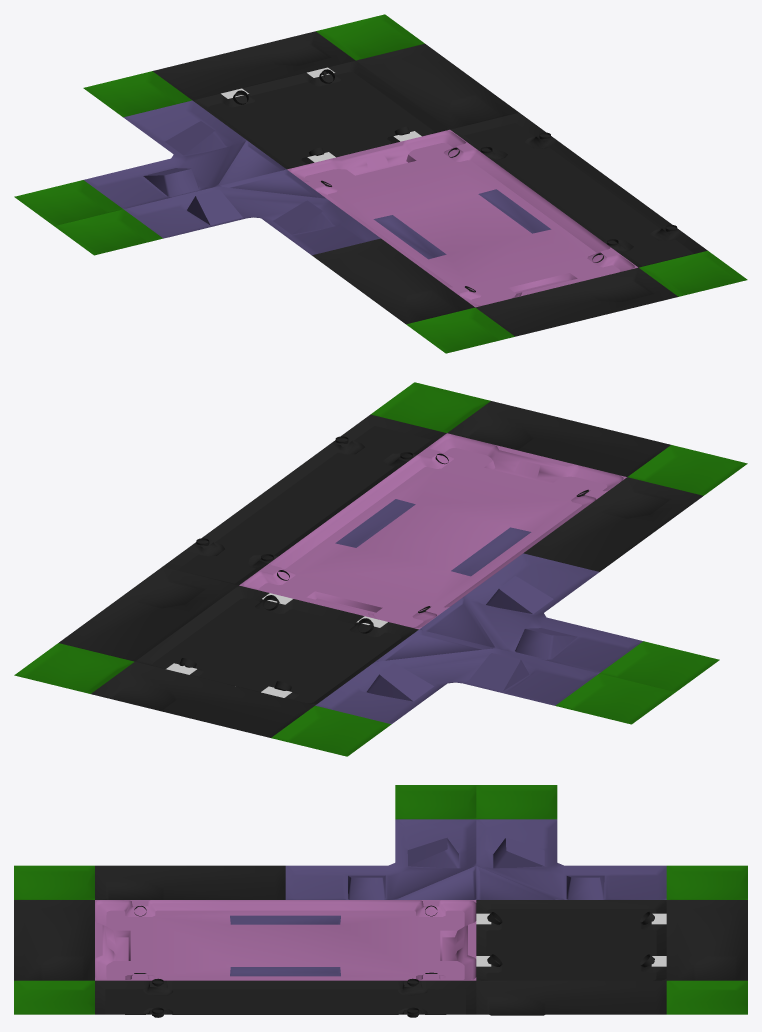
File: Building_B_Room_D_Ceiling_A.fbx
The picture shows the model from 3 angles, top to bottom: view 1: azimuth 30°, elevation 25°; view 2: azimuth 150°, elevation 25°; view 3: azimuth 270°, elevation 25°; orthographic projection. The views are drawn at different scales.
Visible parts, largest first — view 1: Geom_Building_B_Room_D_Ceiling_A_LOD00; view 2: Geom_Building_B_Room_D_Ceiling_A_LOD00; view 3: Geom_Building_B_Room_D_Ceiling_A_LOD00.
Part boxes in pixels (<box>): Geom_Building_B_Room_D_Ceiling_A_LOD00: <box>14,14,747,353</box>; Geom_Building_B_Room_D_Ceiling_A_LOD00: <box>14,382,747,756</box>; Geom_Building_B_Room_D_Ceiling_A_LOD00: <box>14,785,747,1017</box>.
Size of what is drawn, in the model's own units: 1140 by 48.81 by 1540.
